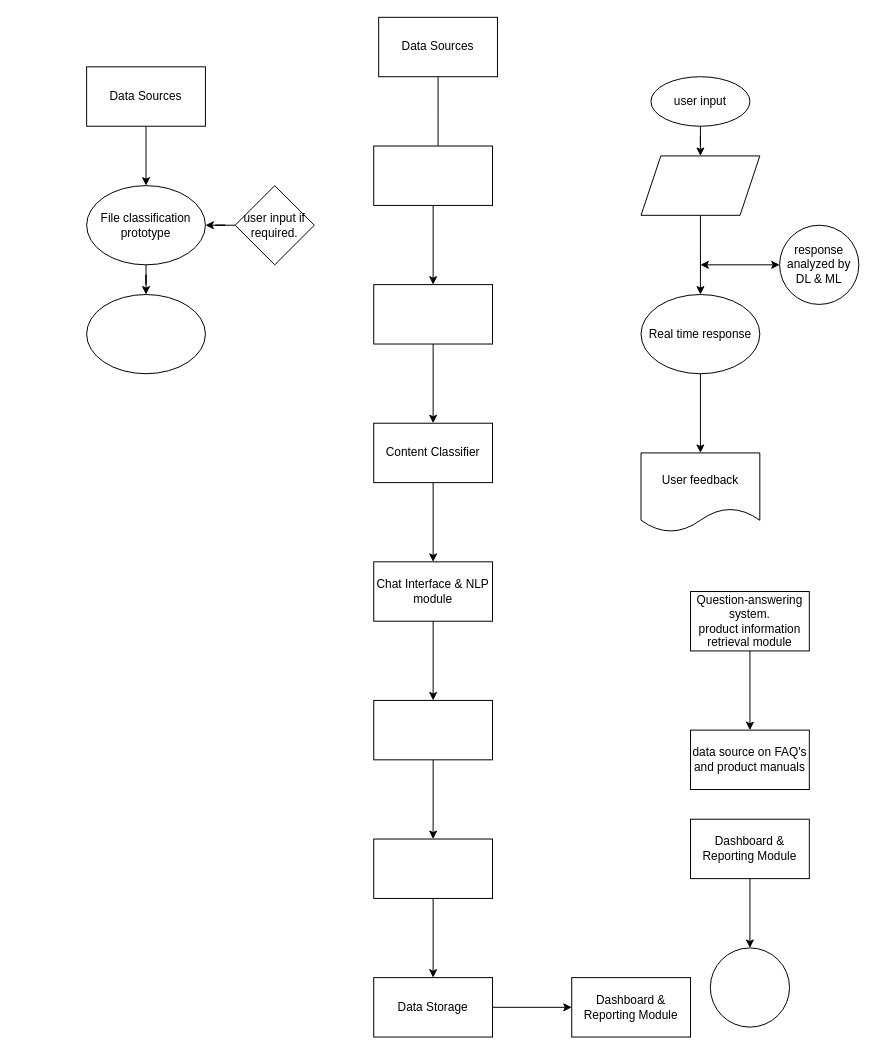
This 876x1054 diagram has some shape labels left out. The shapes that lost their labels are listed below. From the top down, each one's box as (x1, y1, x2, y2) in pixels, then its label:
(373, 145, 493, 205): Data Scanner & Extractor
(640, 155, 760, 215): request analyzed by NLP.
(86, 294, 205, 374): modified prototype of content classifier in real-time
(373, 284, 493, 344): Fingerprinting engine
(373, 699, 493, 760): Q/A system product information retrieval module
(373, 838, 493, 898): Intergration Layer
(709, 947, 790, 1027): share the report to end user
